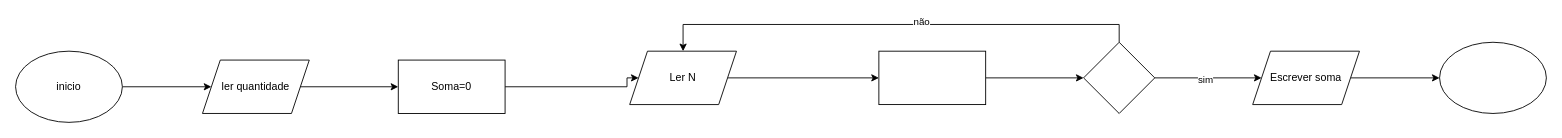
This 1562x138 diagram has some shape labels left out. Here are the shapes that lost their labels. From the top down, the box of each, then its label:
(878, 50, 986, 105): Soma=Soma+N Quantos=Quantos-1
(1083, 41, 1155, 113): quantos=0
(1439, 41, 1546, 113): fim
